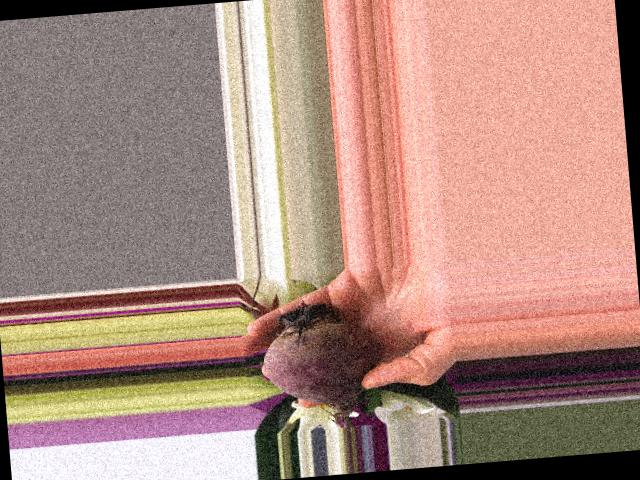beet: (257, 295, 382, 434)
